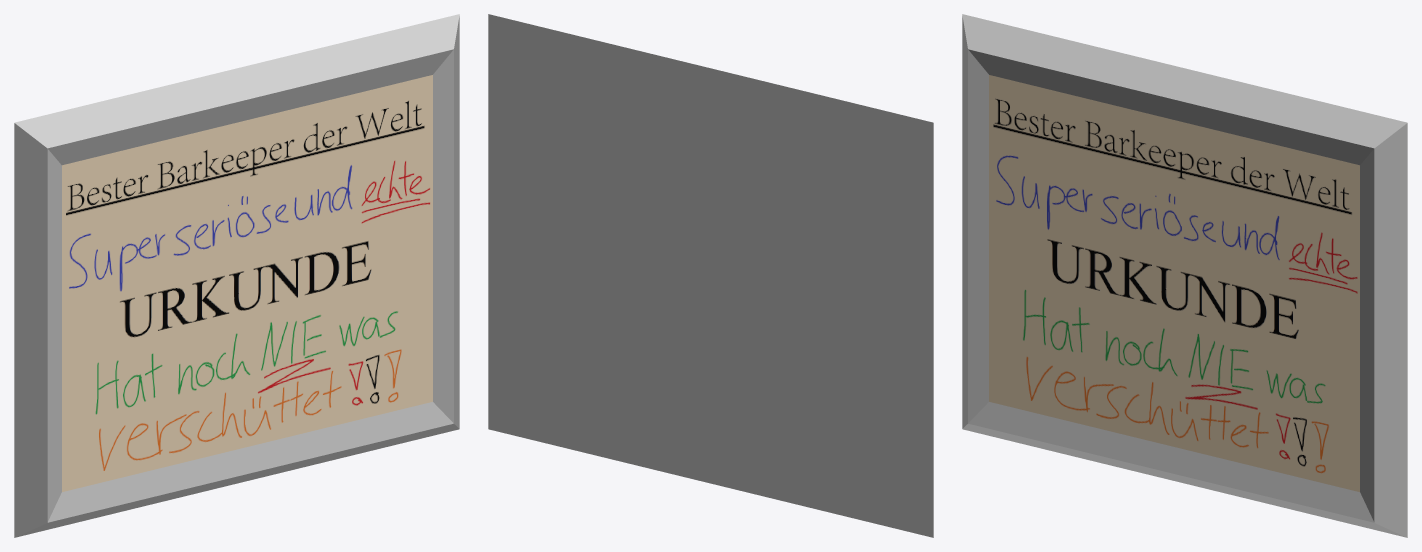
Rendered from Certificate.fbx.
3 views of the same model, side by side, from view 1: azimuth 30°, elevation 25°; view 2: azimuth 150°, elevation 25°; view 3: azimuth 330°, elevation 25° (orthographic).
Parts seen in each view (by area): view 1: urkunde; view 2: urkunde; view 3: urkunde.
Boxes of the visible parts, <box> form: urkunde: <box>14,14,459,537</box>; urkunde: <box>488,14,933,537</box>; urkunde: <box>962,14,1407,537</box>.
Bounding box in the file's own units: 0.3311 × 0.2949 × 0.0177.
